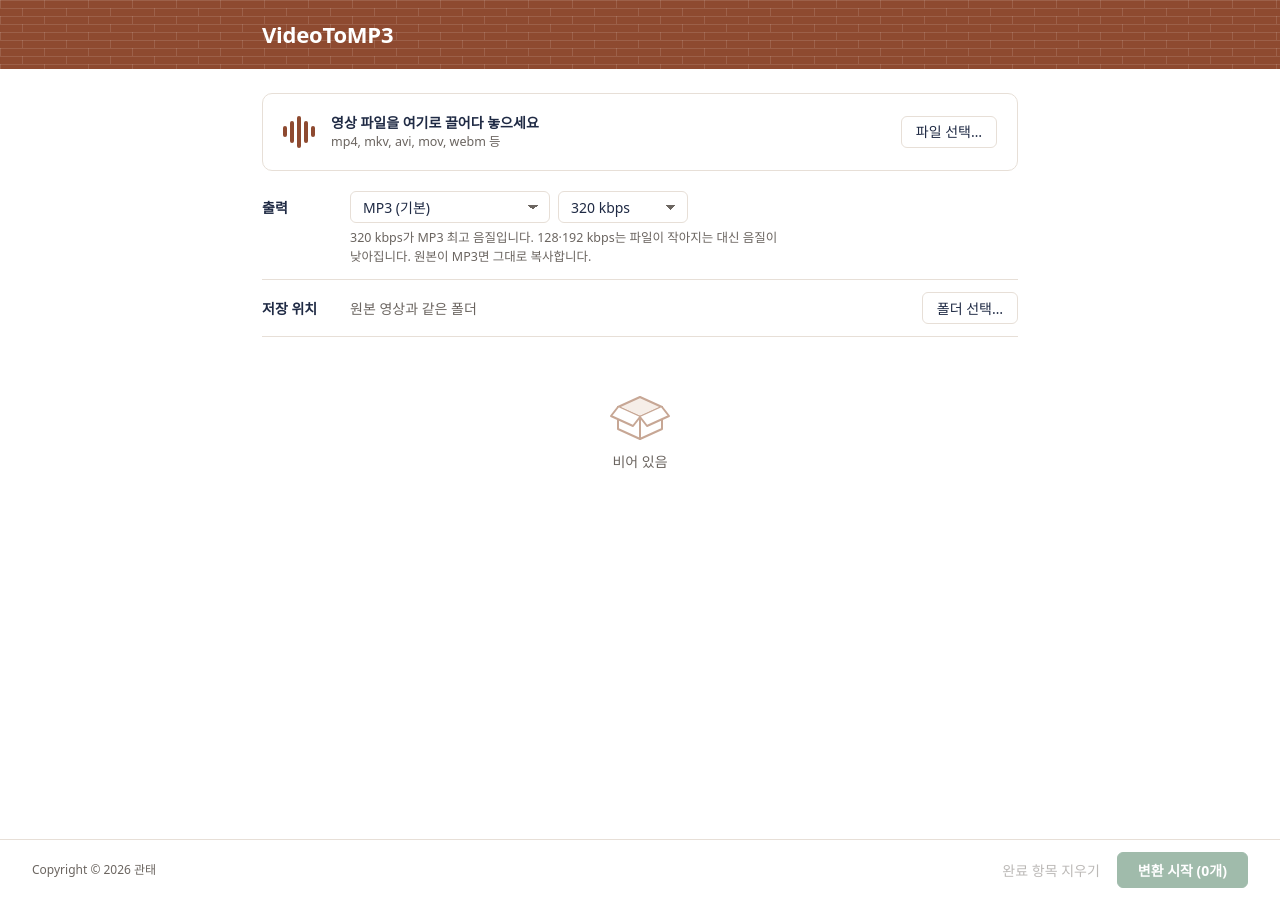
Test: 설정 › 저장 폴더를 고르고 원본 폴더로 되돌린다
Click the button "폴더 선택…".
click(970, 308)  # box [922,292,1018,324]
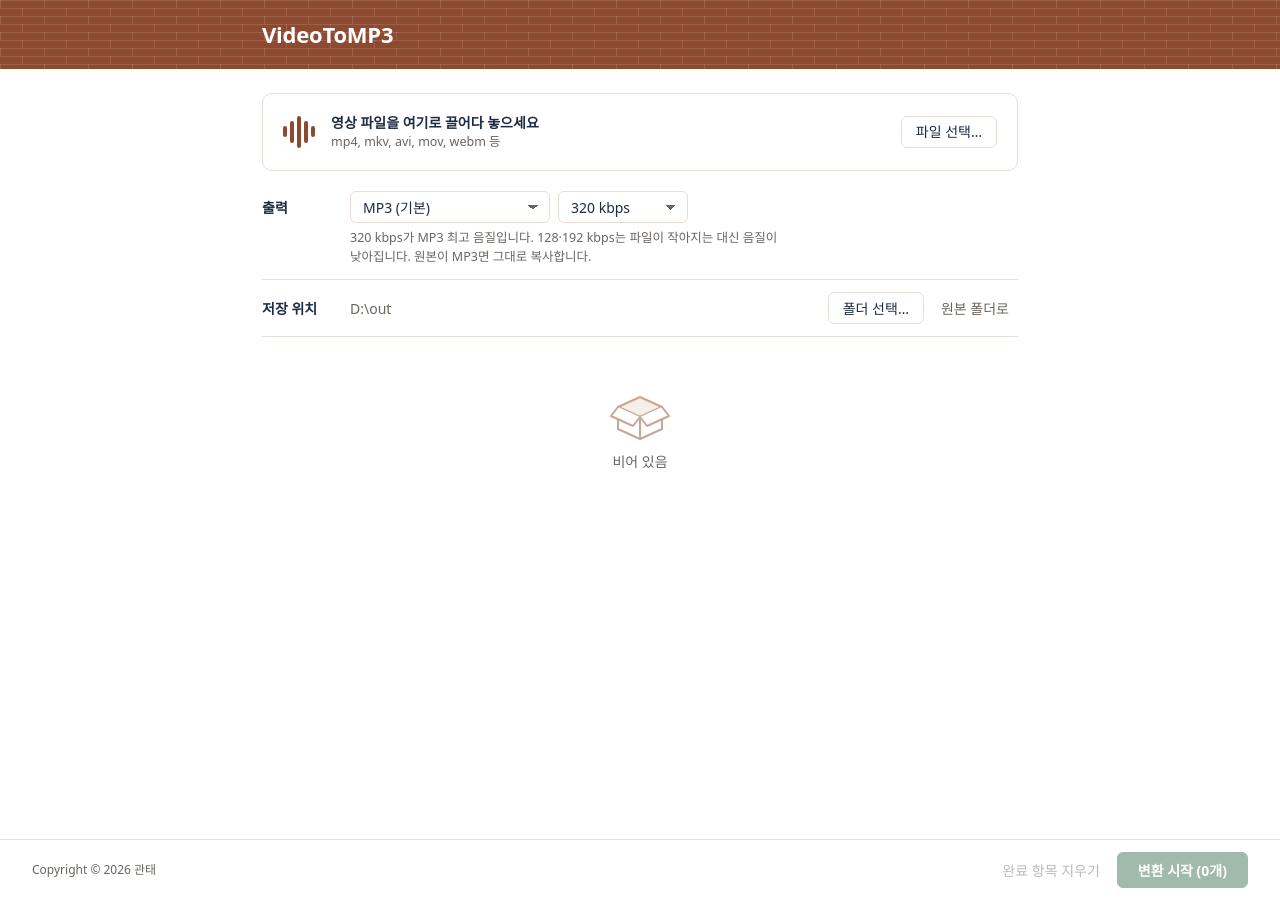
expect the text "D:\\out" has attribute title="D:\\out": met, box [350,299,391,318]
Click the button "원본 폴더로".
click(975, 308)  # box [932,292,1018,324]
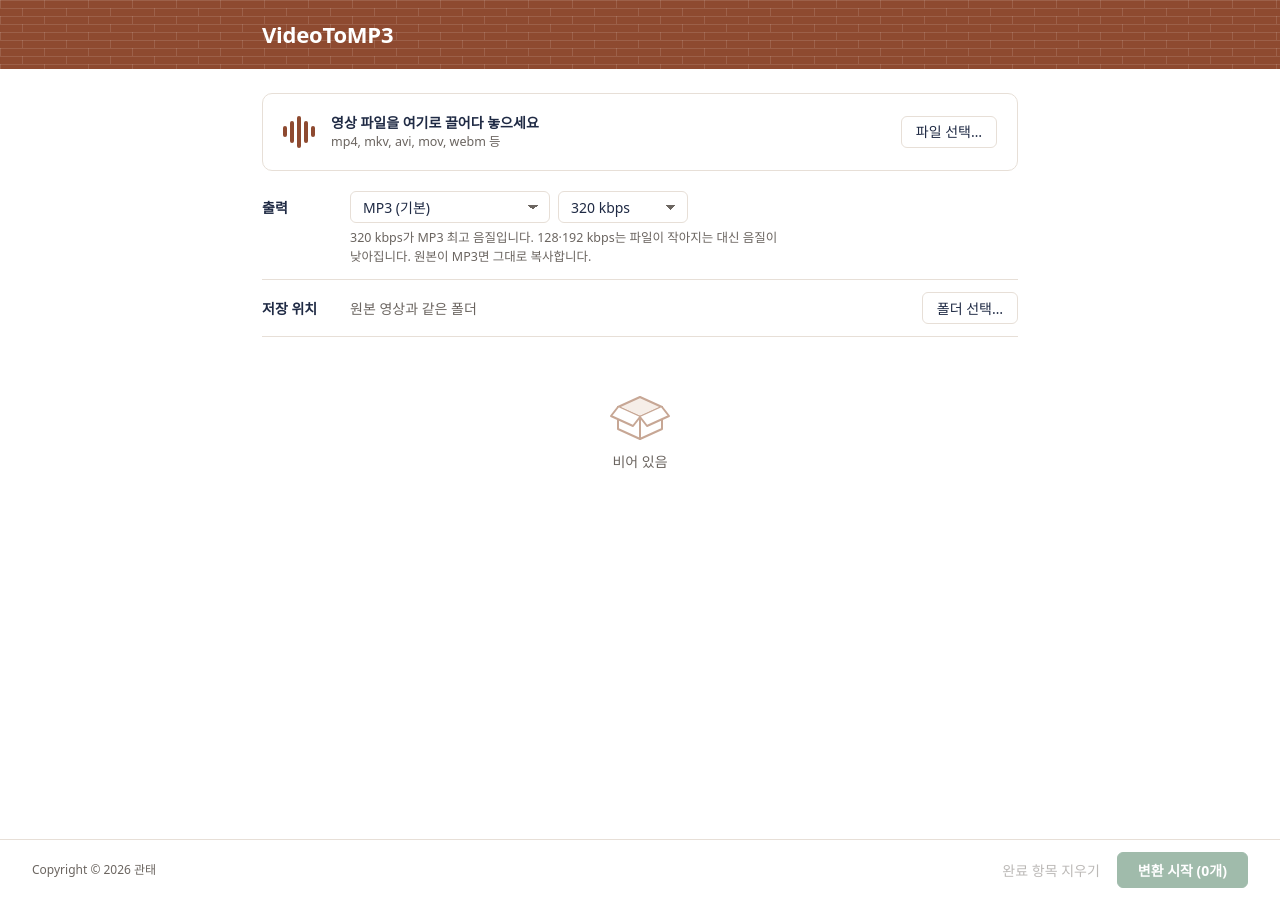
expect the text "원본 영상과 같은 폴더" does not have attribute title: met, box [350,299,477,318]
